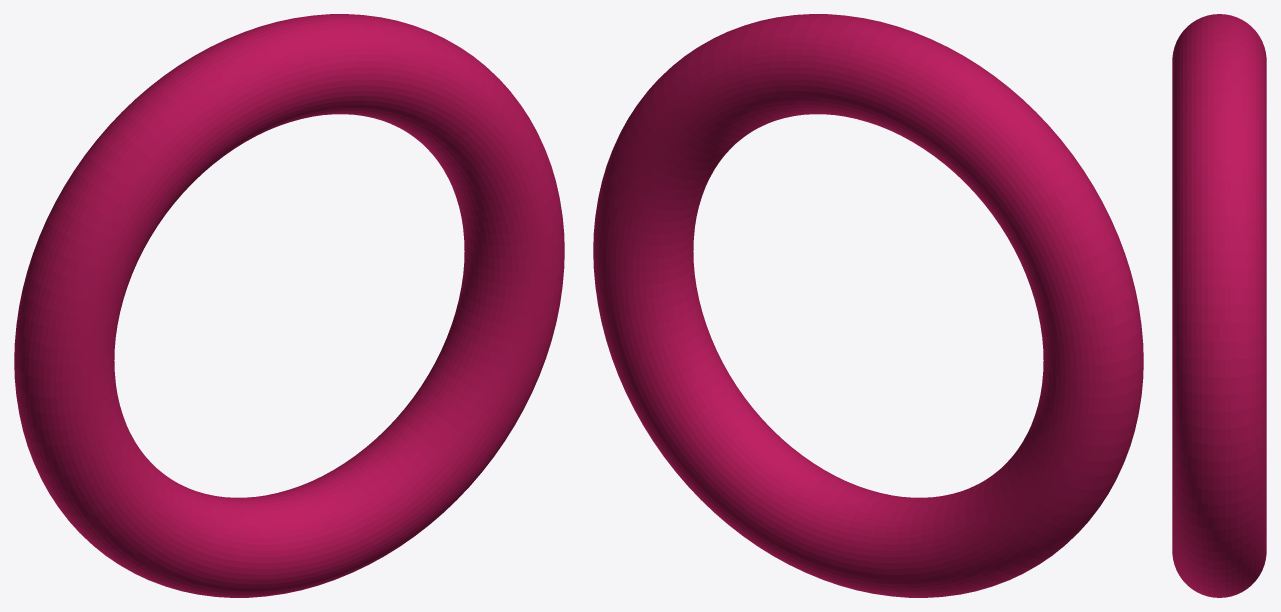
3 renders of one model, left to right at view 1: azimuth 30°, elevation 25°; view 2: azimuth 150°, elevation 25°; view 3: azimuth 270°, elevation 25°, orthographic. The views are drawn at different scales.
Visible parts, largest first — view 1: world; view 2: world; view 3: world.
Boxes of the visible parts, left/top/right/bottom form: world: left=14, top=14, right=564, bottom=597; world: left=593, top=14, right=1143, bottom=597; world: left=1172, top=14, right=1266, bottom=597.
Bounding box in the file's own units: 22.27 × 22.27 × 3.59.
